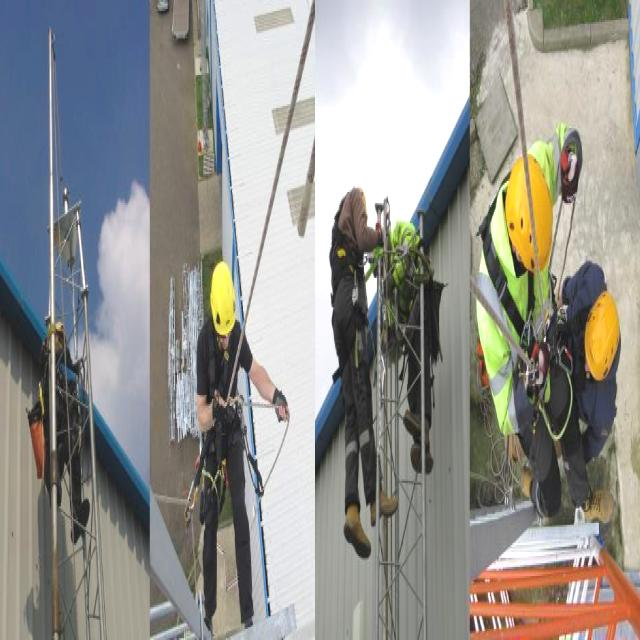hand_glove: (271, 382, 292, 439), (210, 382, 226, 433)
head_helmet: (506, 154, 554, 270), (584, 289, 622, 377), (210, 258, 236, 336)
person: (473, 119, 582, 525), (195, 259, 288, 622), (326, 183, 375, 556), (381, 207, 439, 466), (564, 267, 622, 442), (44, 312, 88, 524)
shoes: (340, 504, 374, 564), (580, 478, 616, 533), (368, 482, 399, 537), (401, 401, 428, 438)
